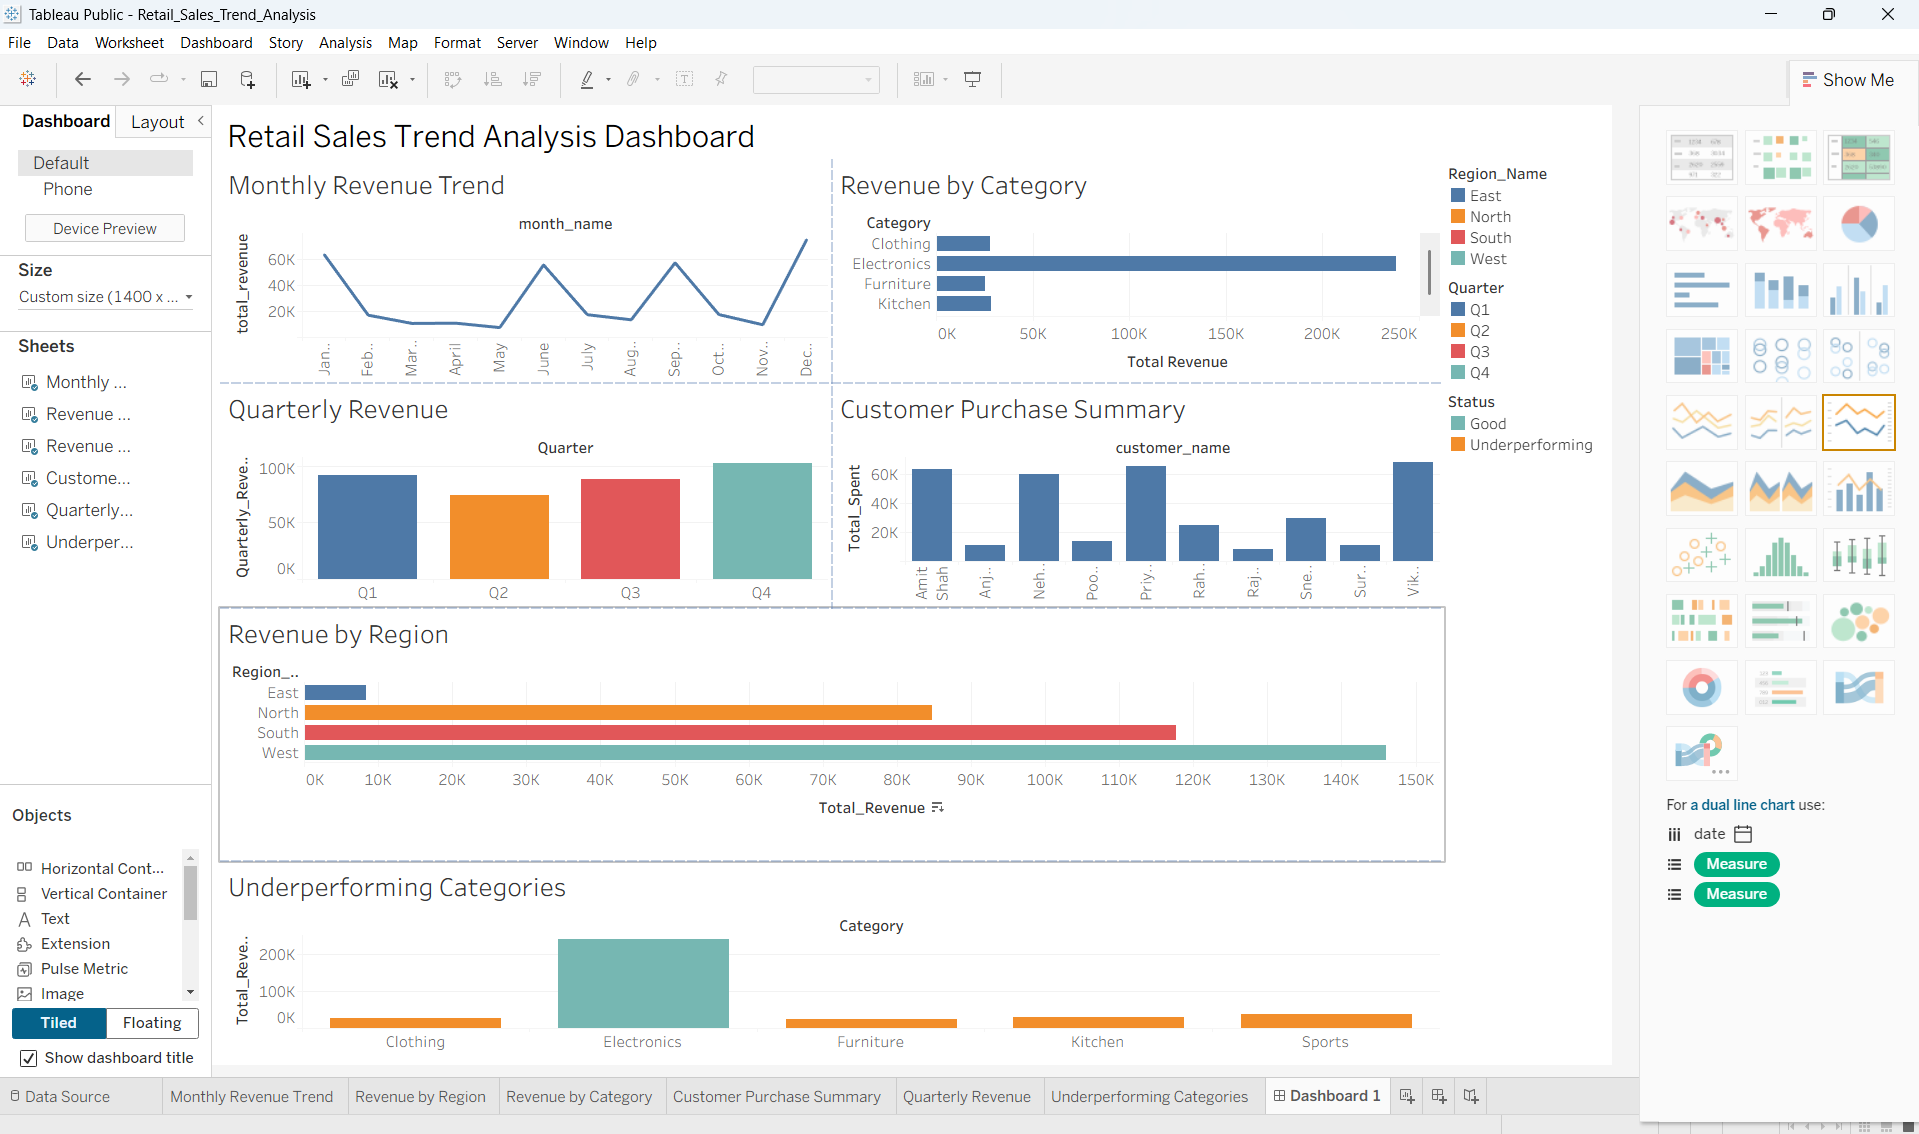

The dashboard page shown, as its layout file describes it:
{"tool":"tableau","page":{"name":"Dashboard 1","canvas":[1400,960],"ordinal":0},"visuals":[{"type":"title","box":[8,8,1384,46]},{"type":"worksheet","title":"Monthly Revenue Trend","mark":"Line","rows":["F4"],"cols":["F1"],"box":[8,54,611.9,224.4]},{"type":"worksheet","title":"Revenue by Category","mark":"Automatic","rows":["F1"],"cols":["F2"],"box":[619.9,54,612.1,224.5]},{"type":"legend","title":"Revenue by Region","param":"[federated.0ypqdv508jv7g3117qzcs1v3zaxv].[none:F1:nk]","box":[1232,54,160,114]},{"type":"legend","title":"Quarterly Revenue","param":"[federated.1btzz4h17p473m1fdgm7i1o1owg8].[none:F1:nk]","box":[1232,168,160,114]},{"type":"worksheet","title":"Quarterly Revenue","mark":"Automatic","rows":["F3"],"cols":["F1"],"box":[8,278.4,611.9,224.5]},{"type":"worksheet","title":"Customer Purchase Summary","mark":"Automatic","rows":["F4"],"cols":["F1"],"box":[619.9,278.4,612.1,224.5]},{"type":"legend","title":"Underperforming Categories","param":"[federated.0d9h0vy0gtax2i15bx5zn0z4zegx].[none:F4:nk]","box":[1232,282,160,72]},{"type":"worksheet","title":"Revenue by Region","mark":"Automatic","rows":["F1"],"cols":["F3"],"box":[8,502.9,1224,253.3]},{"type":"worksheet","title":"Underperforming Categories","mark":"Automatic","rows":["F2"],"cols":["F1"],"box":[8,756.2,1224,195.8]}]}

Visuals, with their boxes on the page's 1400x960 design canvas (x1, y1, x2, y2). These are canvas units, not pixel positions in the 1919x1134 screenshot, which may show the page scaled, cropped or inside an application window:
title: locate(8, 8, 1392, 54)
"Monthly Revenue Trend" worksheet (Line marks): locate(8, 54, 620, 278)
"Revenue by Category" worksheet: locate(620, 54, 1232, 278)
"Revenue by Region" legend: locate(1232, 54, 1392, 168)
"Quarterly Revenue" legend: locate(1232, 168, 1392, 282)
"Quarterly Revenue" worksheet: locate(8, 278, 620, 503)
"Customer Purchase Summary" worksheet: locate(620, 278, 1232, 503)
"Underperforming Categories" legend: locate(1232, 282, 1392, 354)
"Revenue by Region" worksheet: locate(8, 503, 1232, 756)
"Underperforming Categories" worksheet: locate(8, 756, 1232, 952)
